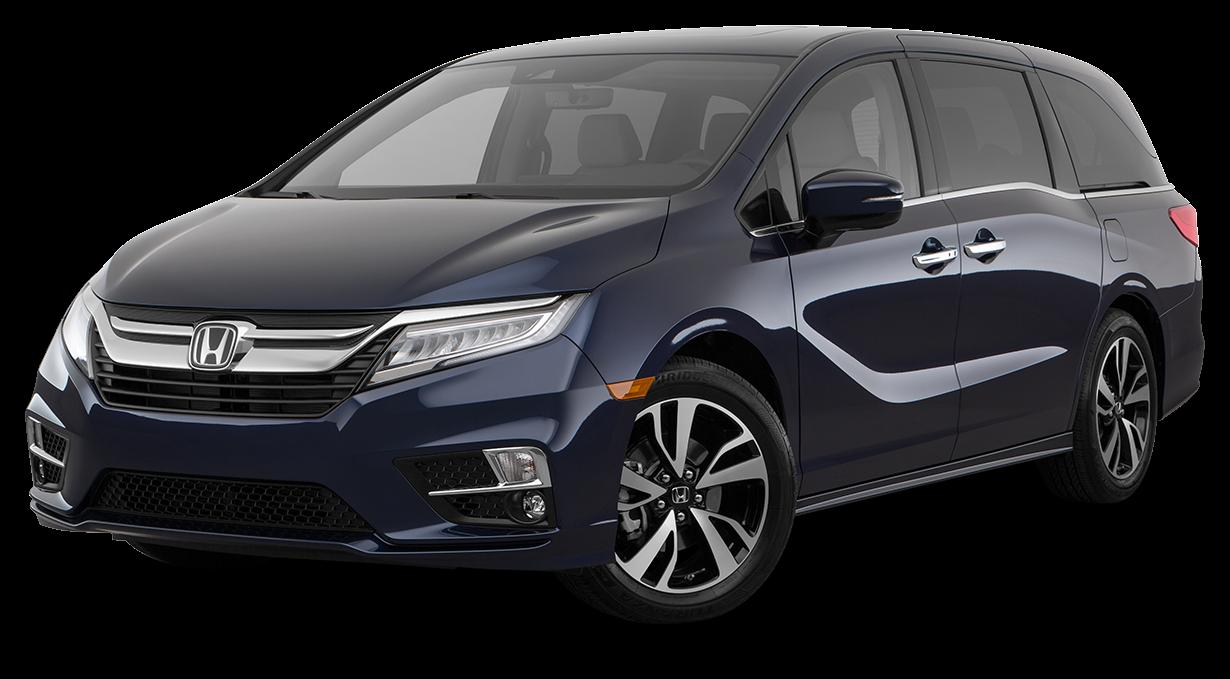Minivan: (22, 26, 1204, 622)
